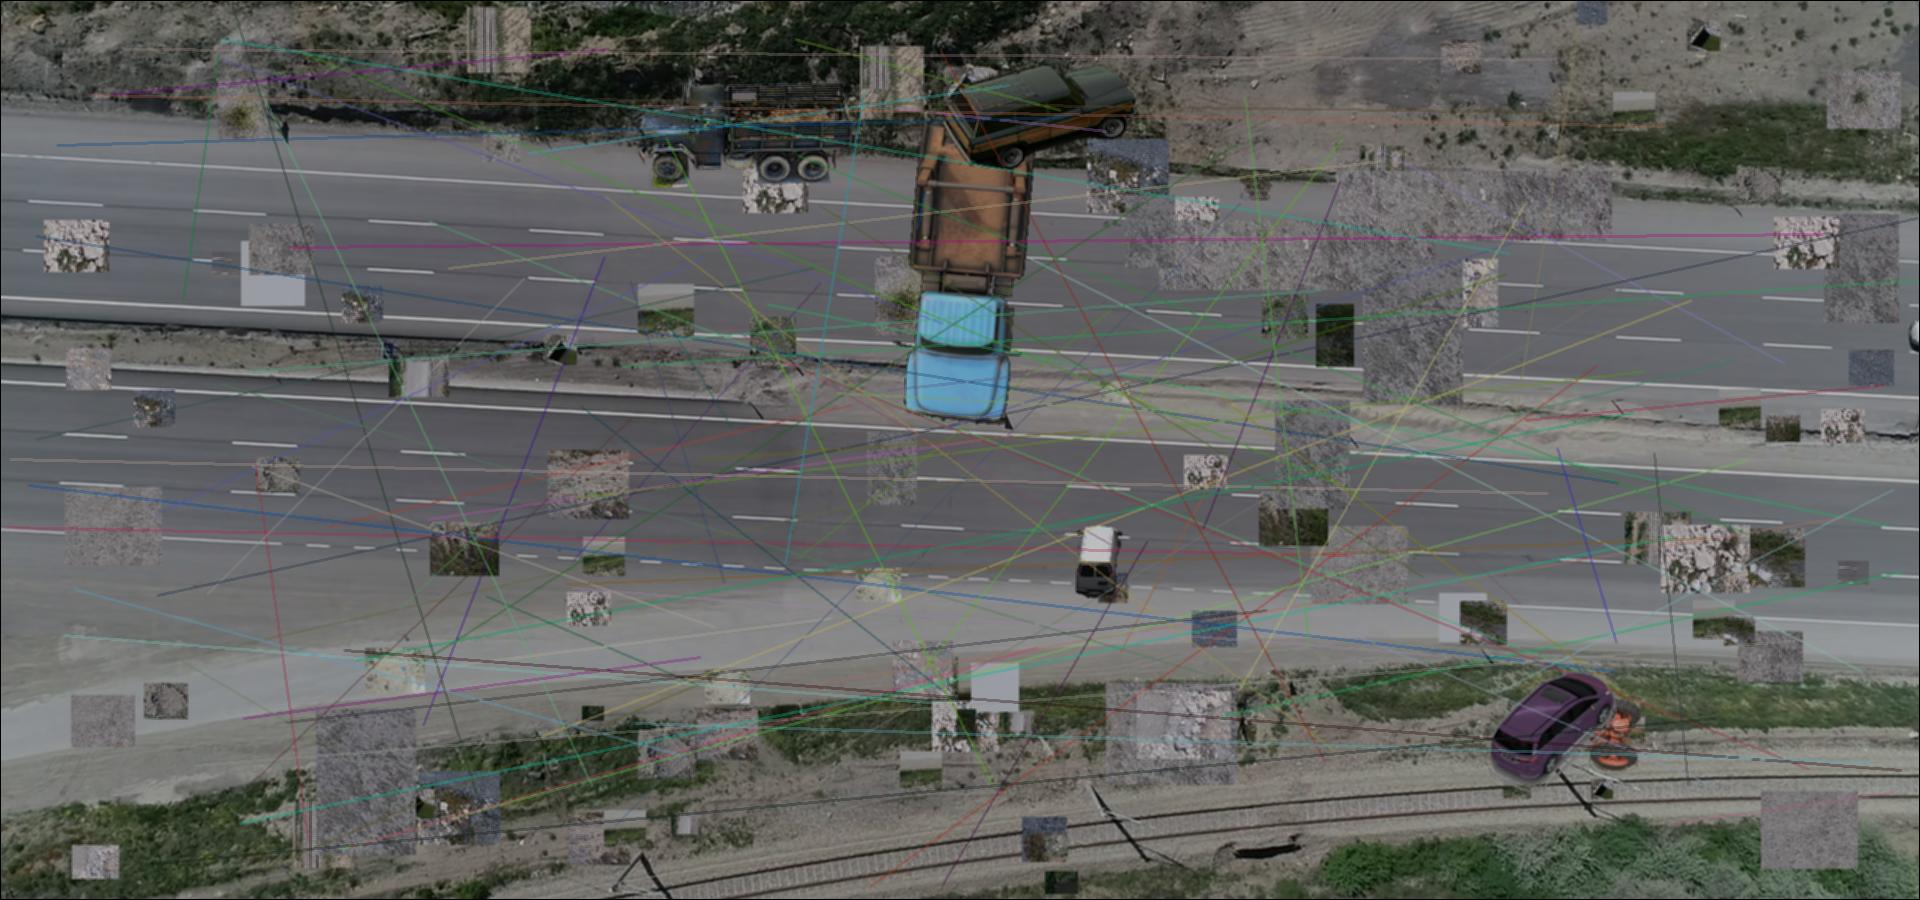arac: (893, 118, 1043, 429), (636, 73, 860, 193), (942, 65, 1139, 169), (1489, 661, 1618, 793), (1531, 696, 1646, 771), (1073, 523, 1122, 598)
